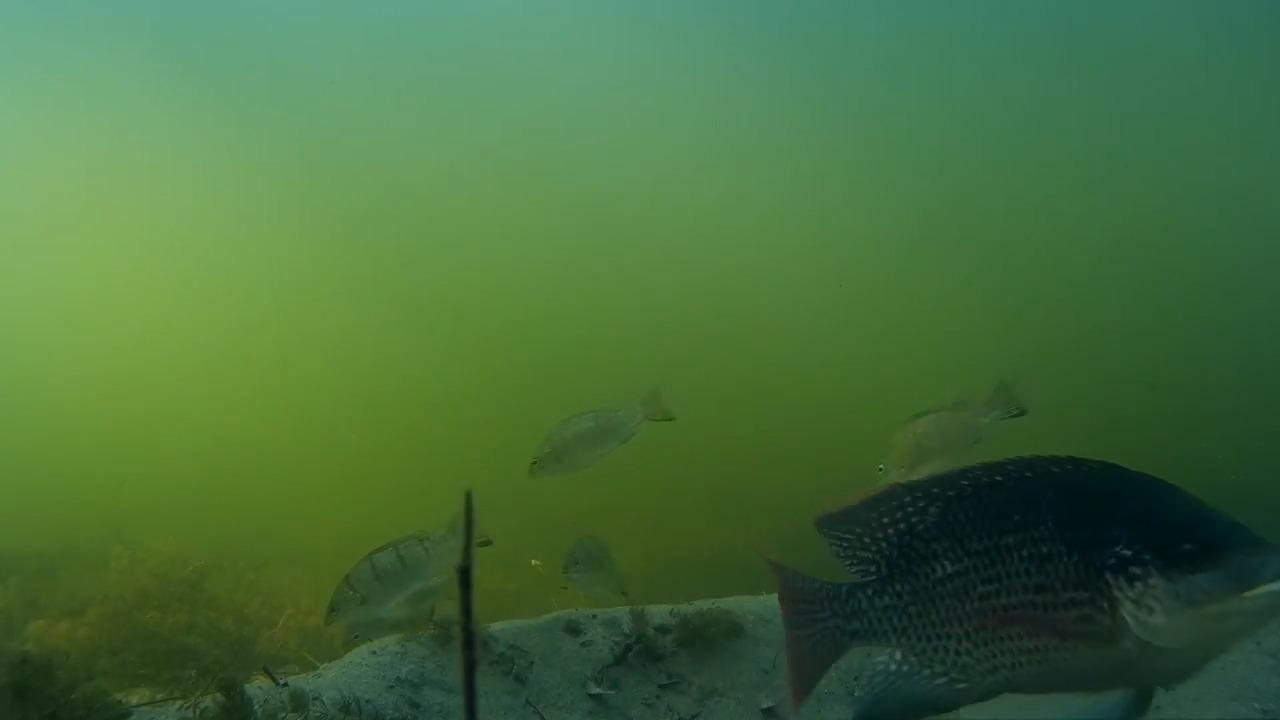Tilapia: (780, 417, 1280, 720), (271, 502, 480, 714), (877, 368, 1032, 488), (515, 385, 687, 492), (542, 518, 647, 600)
